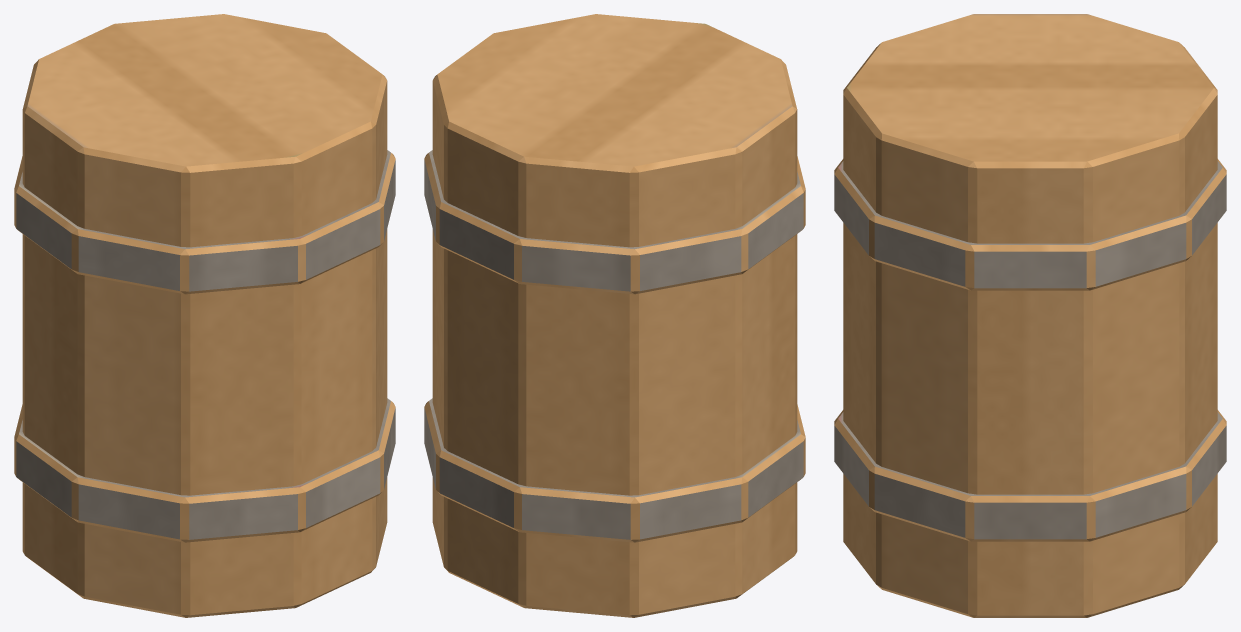
Rendered from sm_prop_barrel.glb.
The picture shows the model from 3 angles, left to right: view 1: azimuth 30°, elevation 25°; view 2: azimuth 150°, elevation 25°; view 3: azimuth 270°, elevation 25°; orthographic projection.
Visible parts, largest first — view 1: sm_prop_barrel; view 2: sm_prop_barrel; view 3: sm_prop_barrel.
Part boxes in pixels (x1,y1,x2,y2): sm_prop_barrel: (14,14,395,617); sm_prop_barrel: (424,14,805,617); sm_prop_barrel: (834,14,1226,617).
Bounding box in the file's own units: 0.2986 × 0.4 × 0.3115.
1 material, 1 textured.
